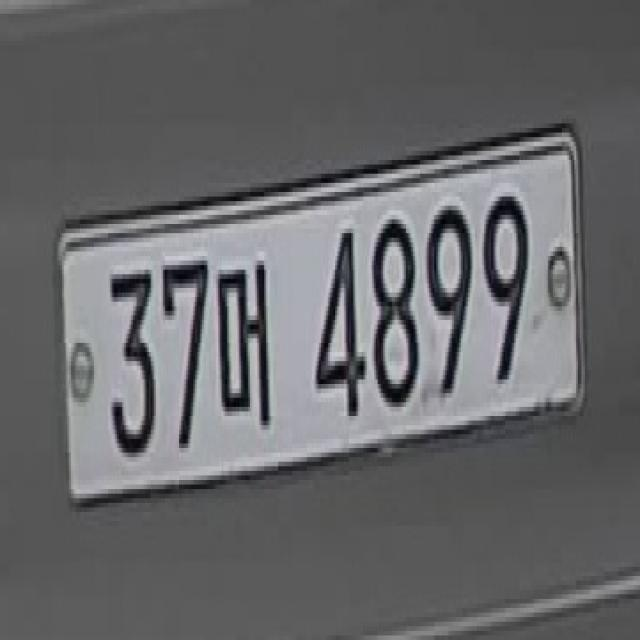3: (110, 265, 156, 462)
4: (312, 219, 365, 416)
7: (162, 252, 210, 457)
8: (367, 201, 420, 412)
9: (424, 196, 472, 398), (482, 183, 528, 388)
license_plate: (53, 128, 587, 512)
meo: (218, 251, 273, 430)
